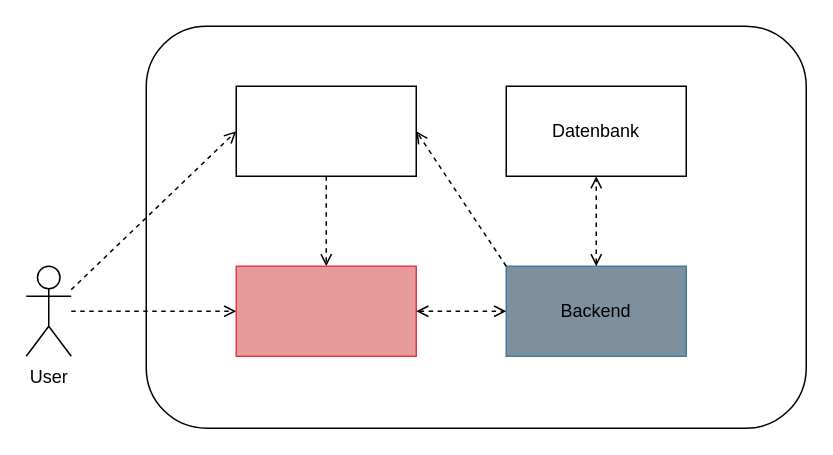
The diagram is 833 pixels wide and 455 high, and some of its shapes have lost their labels. The shapes that lost their labels are listed below. From the top down, each one's centre as x and y in pixels, then its label:
(x=325, y=130): Authentifizierung
(x=325, y=310): UI
